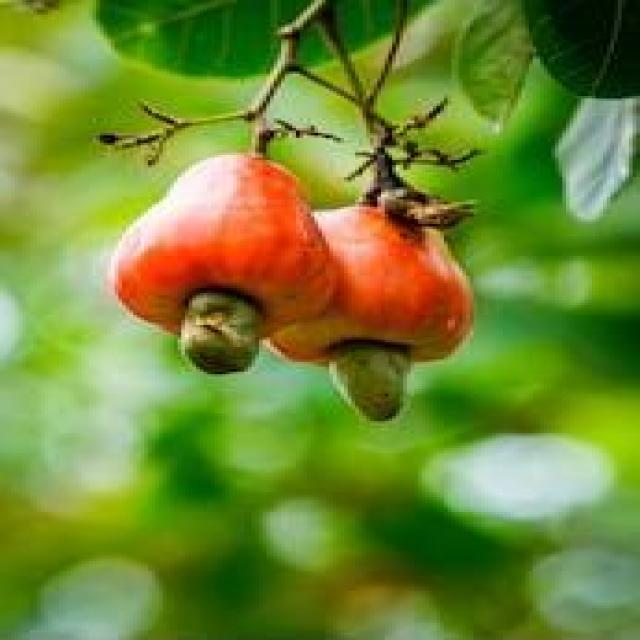Cashew: (167, 287, 301, 380), (313, 339, 445, 422)
